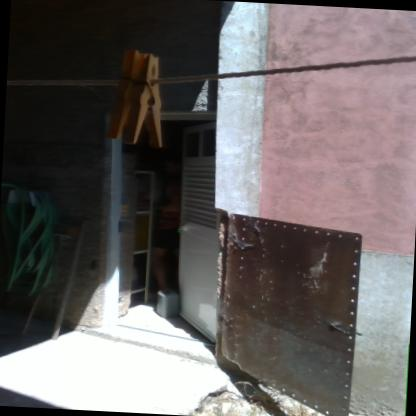semi: (84, 100, 233, 350)
